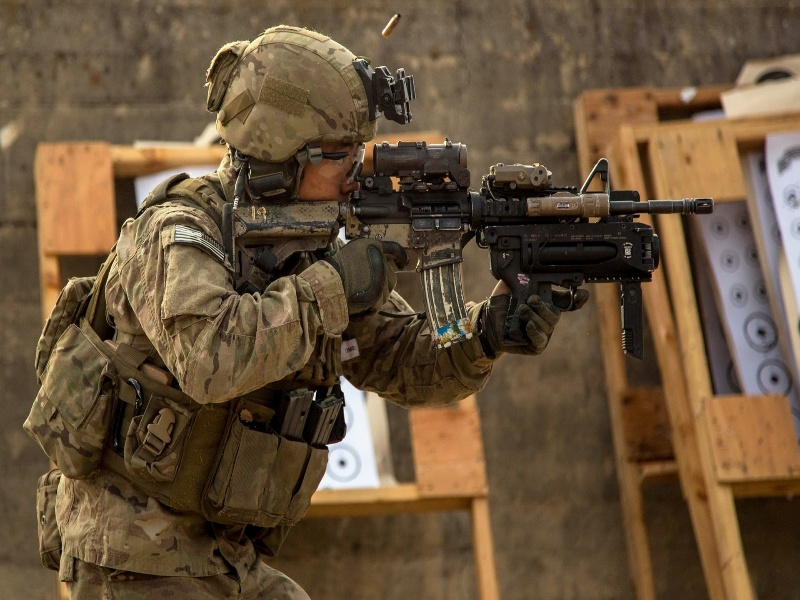person: (21, 23, 590, 600)
weapon: (224, 139, 714, 358)
